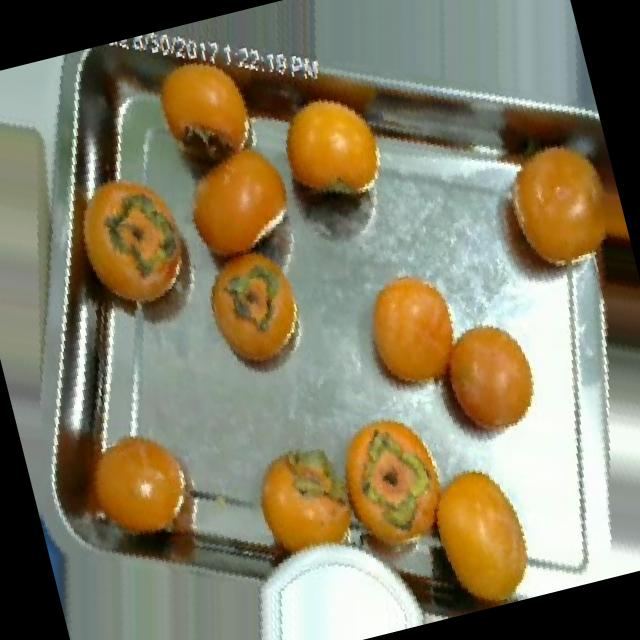Fruit: (19, 394, 228, 604), (458, 112, 640, 314), (62, 143, 217, 354), (404, 297, 562, 469), (406, 439, 555, 619), (338, 249, 486, 419), (255, 70, 411, 229), (229, 423, 373, 592), (182, 232, 326, 400), (573, 214, 640, 390)
